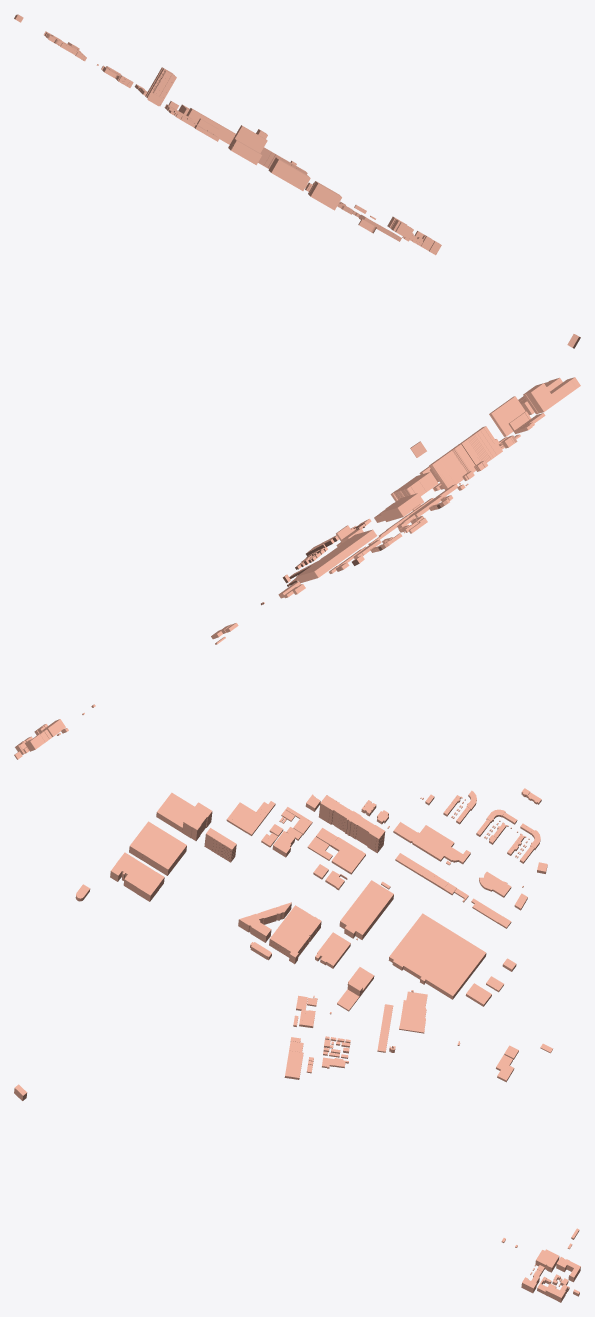
The picture shows the model from 3 angles, top to bottom: view 1: azimuth 30°, elevation 25°; view 2: azimuth 150°, elevation 25°; view 3: azimuth 270°, elevation 25°; orthographic projection. The views are drawn at different scales.
Size of the model in its own units: 967 by 773 by 1186.
